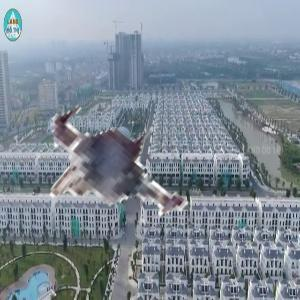drone: (12, 61, 209, 258)
